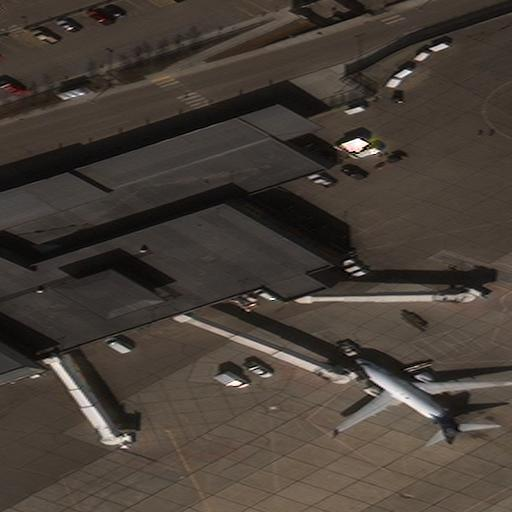Medium Civil Transport: (333, 358, 510, 443)
